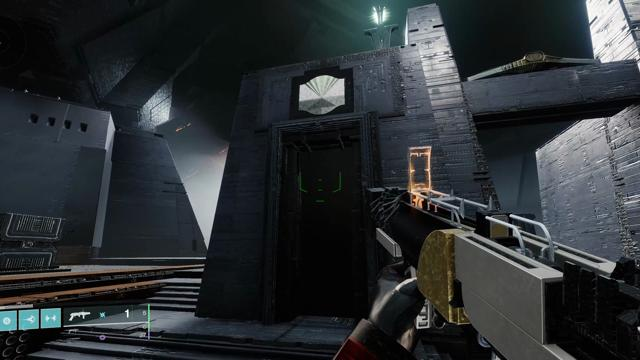commune: (298, 75, 346, 114)
